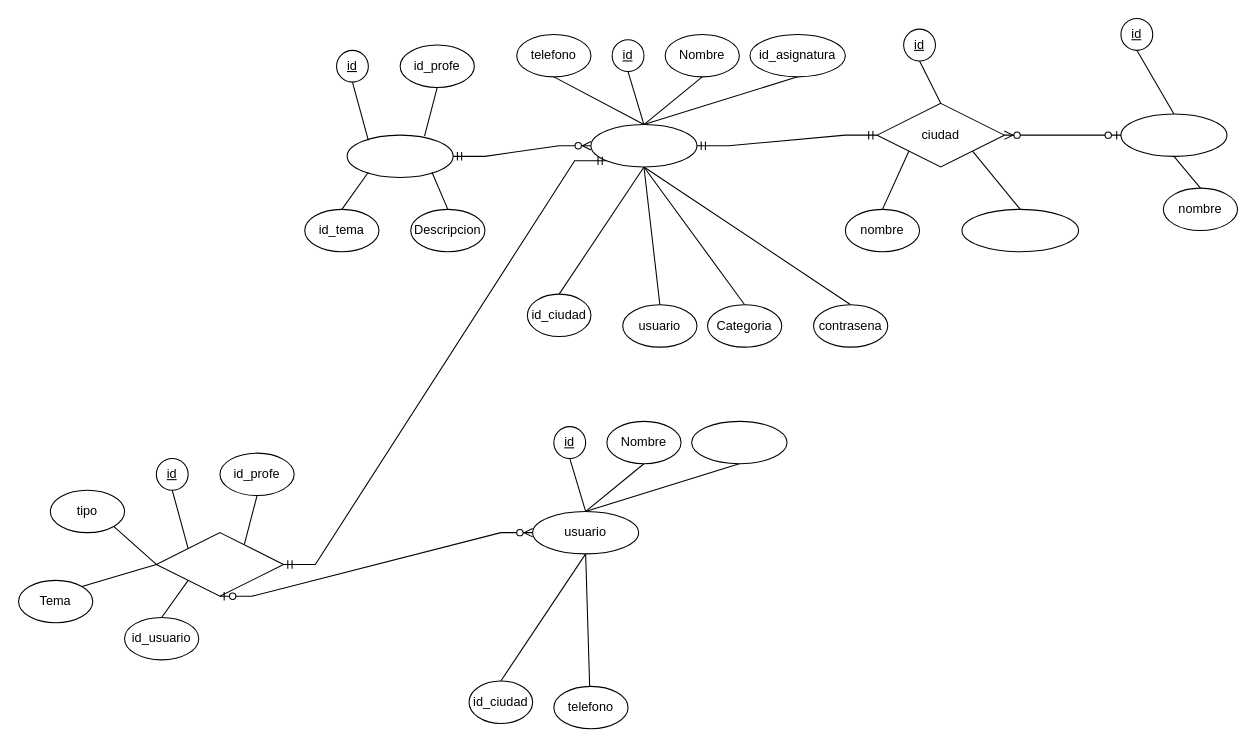
Some shapes in this 1256 by 748 pixel diagram are drawn without their labels. Each missing label, with the centre of its shape:
asesoria: point (219, 564)
Asignatura: point (399, 156)
correo_e: point (739, 442)
departamento: point (1173, 134)
id_departamento: point (1020, 230)
profe: point (643, 145)
